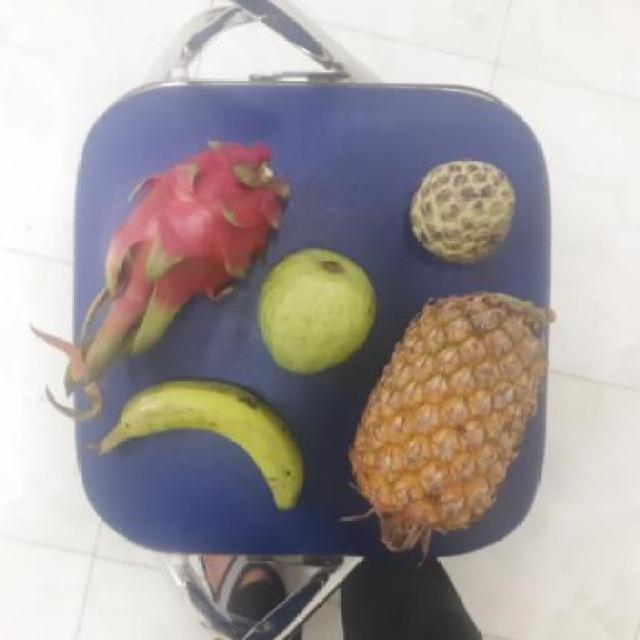banana: (103, 372, 312, 517)
dragon fruit: (105, 139, 282, 313)
guava: (252, 246, 378, 369)
pineapple: (353, 291, 545, 537)
sugar apple: (406, 160, 517, 265)
